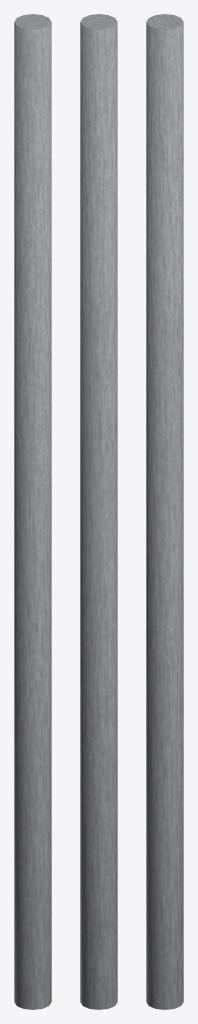
Rendered from fence-tall-chainlink-1rail-end-pole-cbj_LOD00.gltf.
3 renders of one model, left to right at view 1: azimuth 30°, elevation 25°; view 2: azimuth 210°, elevation 25°; view 3: azimuth 270°, elevation 25°, orthographic.
Parts seen in each view (by area): view 1: cube00; view 2: cube00; view 3: cube00.
Boxes of the visible parts, box(x1,y1,x2,y2) form: cube00: box(14, 14, 51, 1009); cube00: box(80, 14, 117, 1009); cube00: box(146, 14, 183, 1009).
Bounding box in the file's own units: 0.08 × 2.33 × 0.08.
